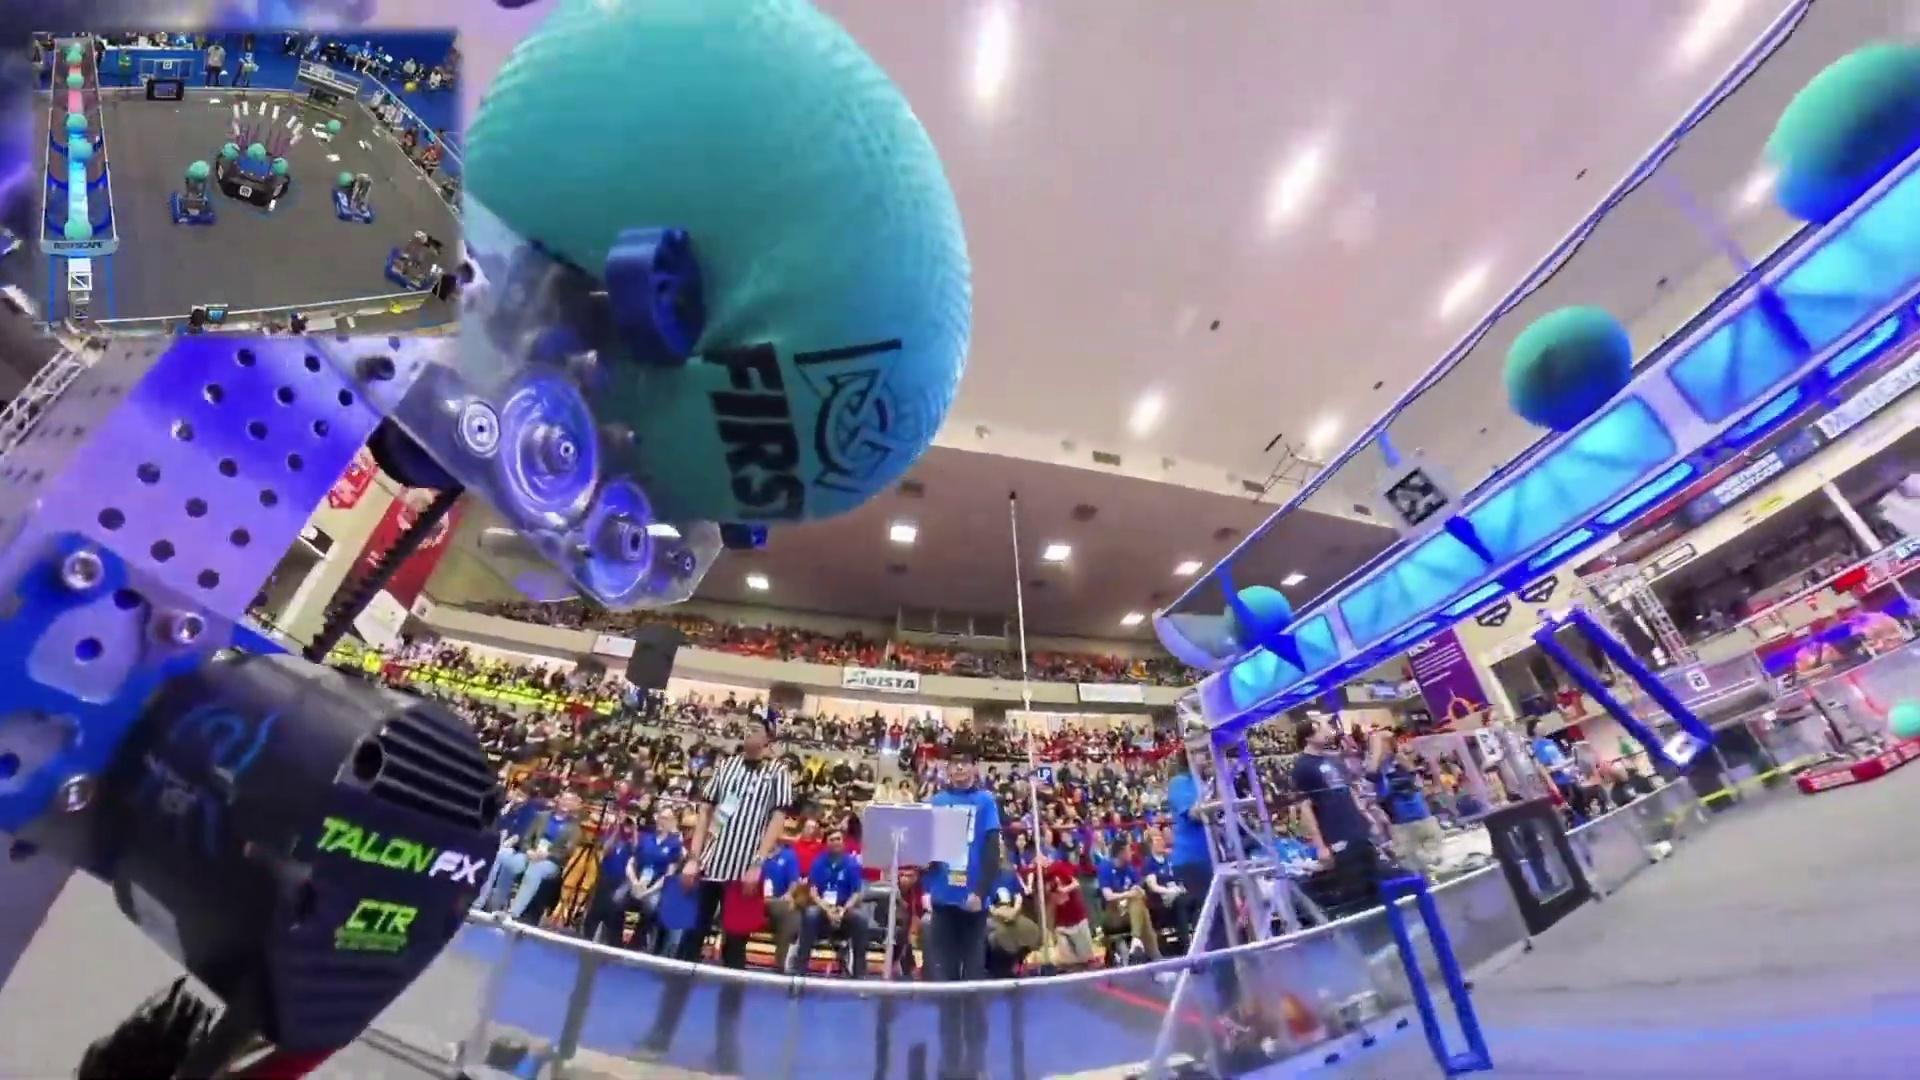robot: (1749, 684, 1917, 794), (381, 227, 438, 294), (171, 167, 218, 229), (331, 170, 376, 224)
